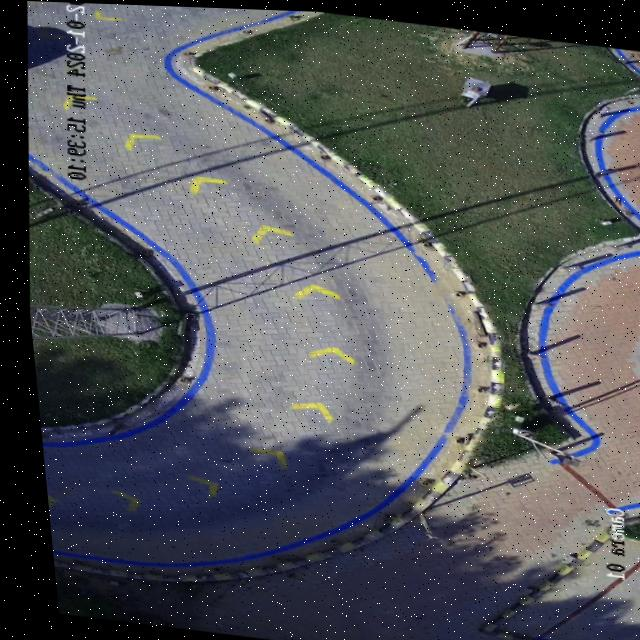No Car: (23, 1, 640, 640)
